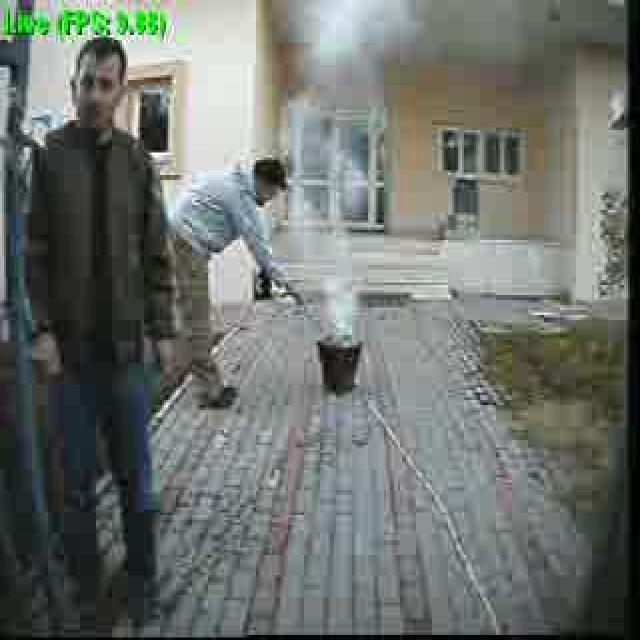Smoke: (287, 8, 388, 322)
